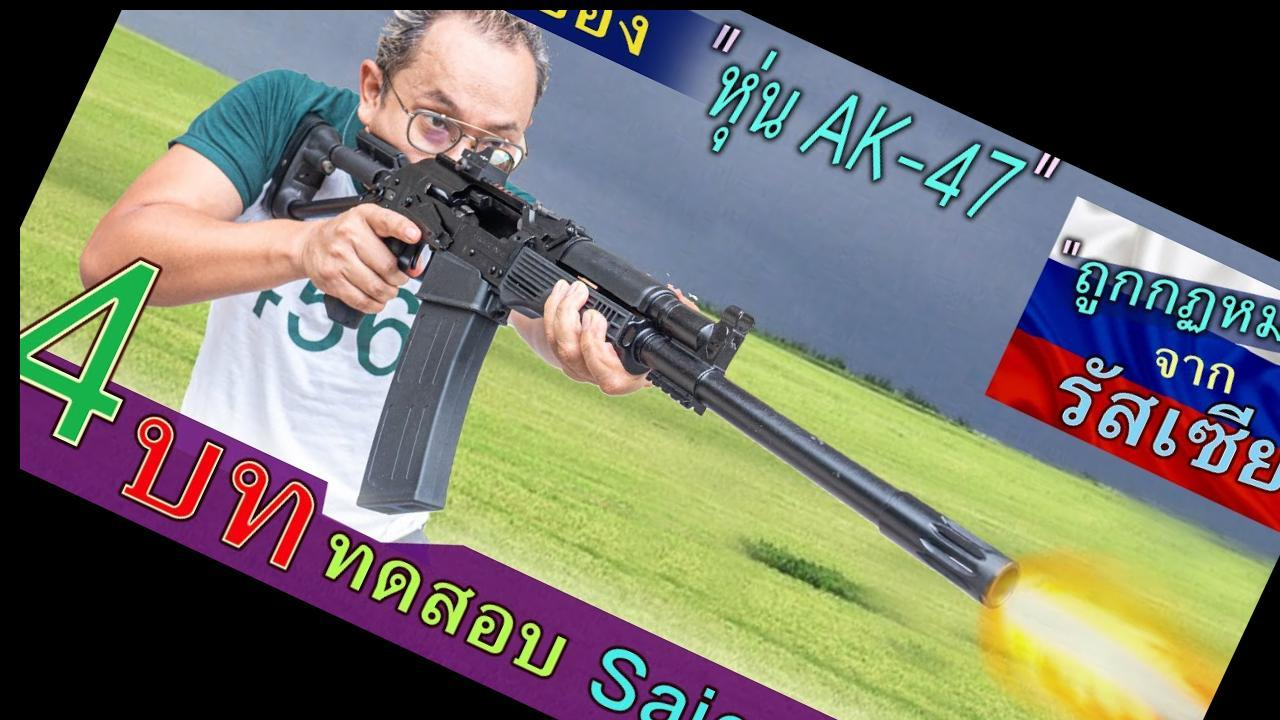larga: (261, 111, 1024, 611)
